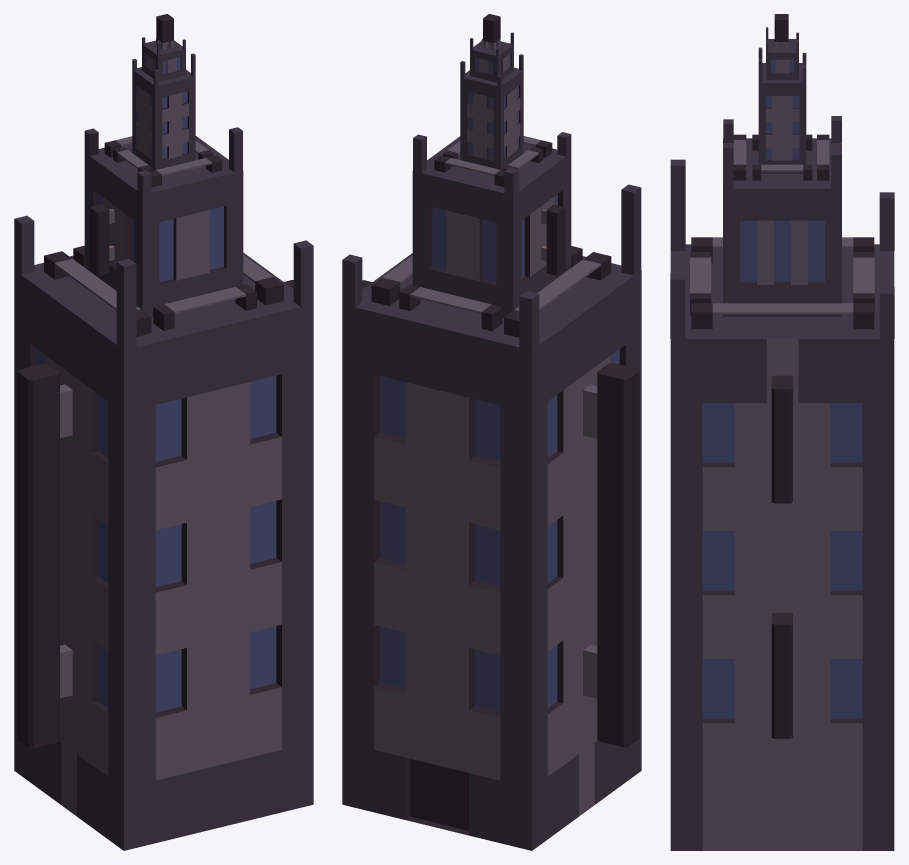
File: Tower-2-3.fbx
3 views of the same model, side by side, from view 1: azimuth 30°, elevation 25°; view 2: azimuth 150°, elevation 25°; view 3: azimuth 270°, elevation 25° (orthographic). The views are drawn at different scales.
Visible parts, largest first — view 1: Tower-2-3.001; view 2: Tower-2-3.001; view 3: Tower-2-3.001.
Part boxes in pixels (bbox=[...]): Tower-2-3.001: bbox=[14, 14, 313, 850]; Tower-2-3.001: bbox=[342, 14, 641, 850]; Tower-2-3.001: bbox=[670, 14, 894, 850].
Size of the model in its own units: 86.27 by 229 by 59.05.
